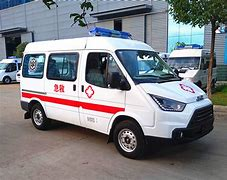specialcar: (13, 21, 216, 159)
